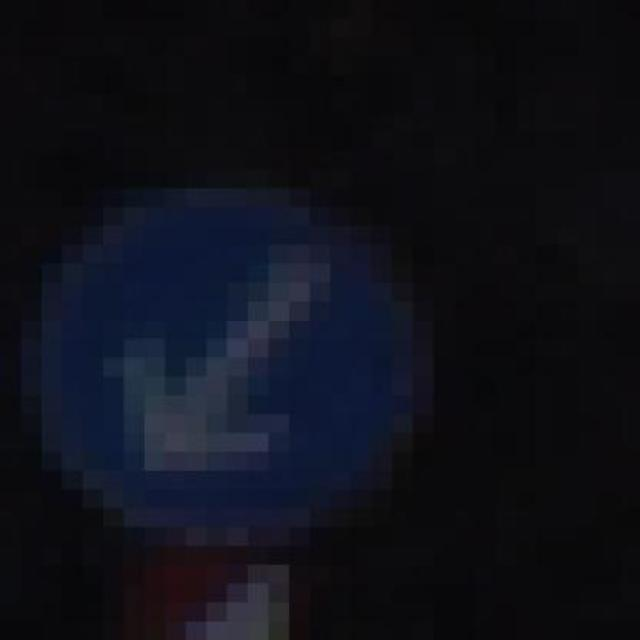Keep-Left: (0, 151, 454, 546)
